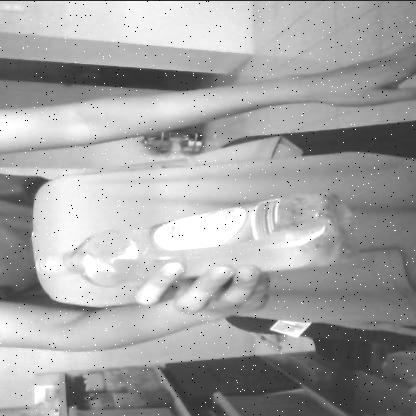Plastic Bottle: (35, 187, 365, 286)
